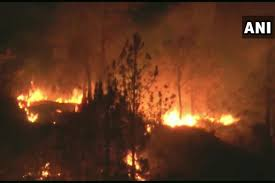fire: (18, 83, 82, 107), (166, 110, 233, 125)
smoke: (156, 12, 242, 89)
